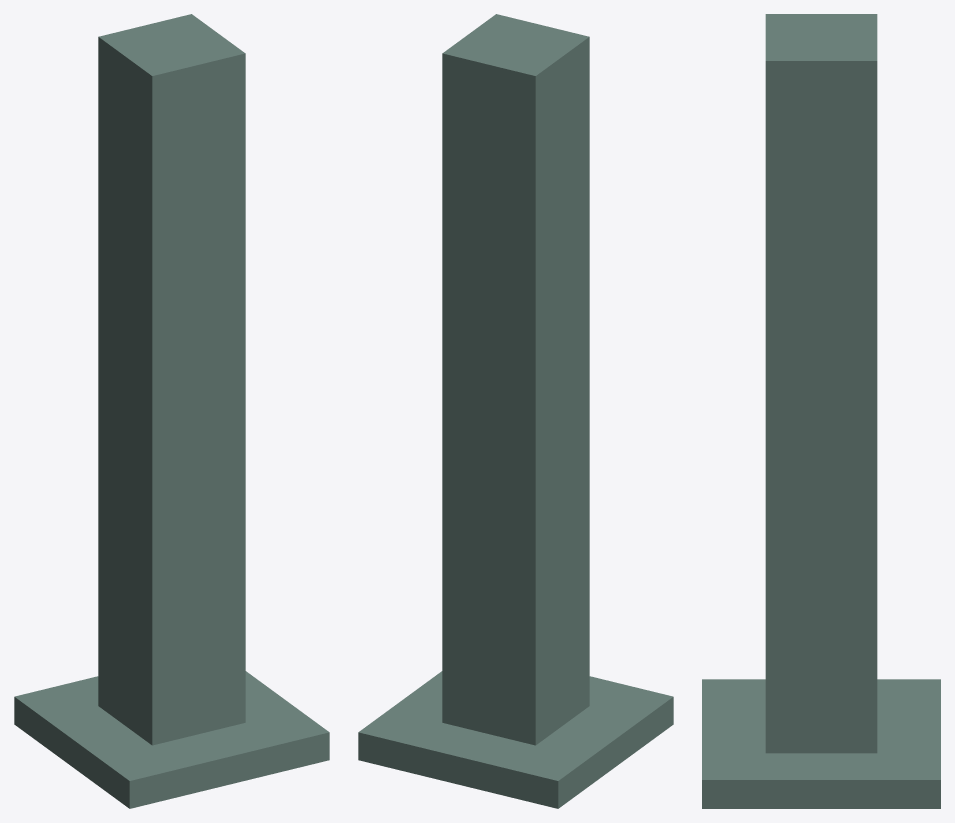
File: Walkway_Stand_1m.glb
3 renders of one model, left to right at view 1: azimuth 30°, elevation 25°; view 2: azimuth 150°, elevation 25°; view 3: azimuth 270°, elevation 25°, orthographic. The views are drawn at different scales.
Parts seen in each view (by area): view 1: Walkway_Stand_1m; view 2: Walkway_Stand_1m; view 3: Walkway_Stand_1m.
Part boxes in pixels (x1,y1,x2,y2): Walkway_Stand_1m: (14,14,329,808); Walkway_Stand_1m: (358,14,673,808); Walkway_Stand_1m: (702,14,940,808).
Size of the model in its own units: 0.3 by 1 by 0.3.
